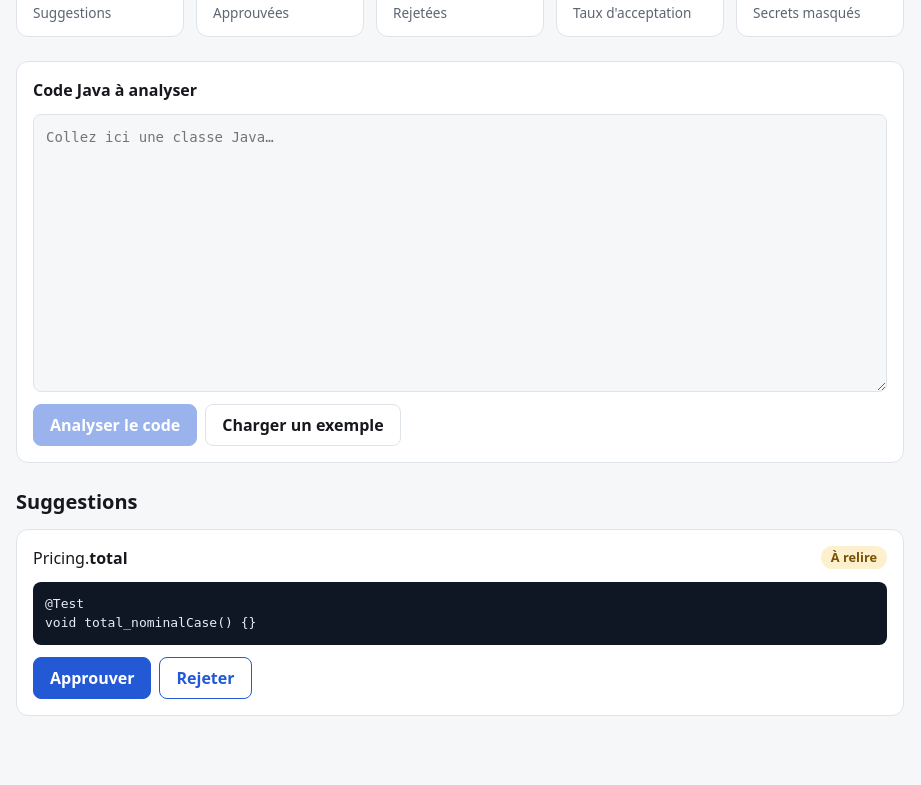
Test: App › affiche l'erreur si la revue échoue
(page scrolled)
What coordinates should you click on to do the following:
click the button "Approuver"
I would click on:
 (92, 678)
Its box is left=33, top=657, right=152, bottom=699.
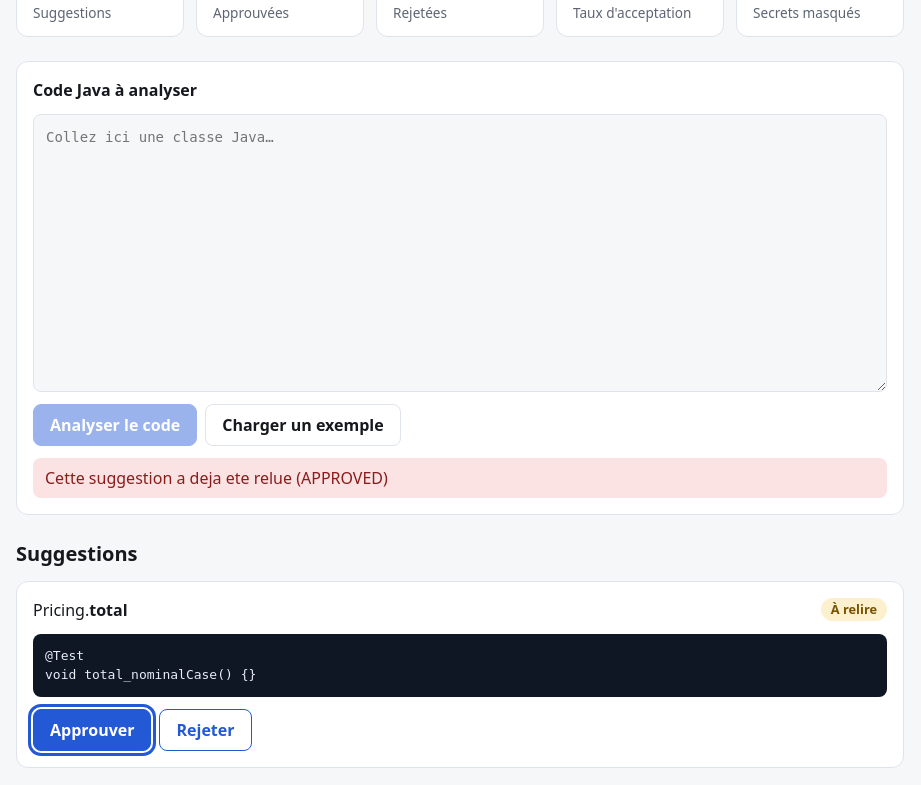
Now the message shows "deja ete relue", box left=45, top=467, right=388, bottom=489
